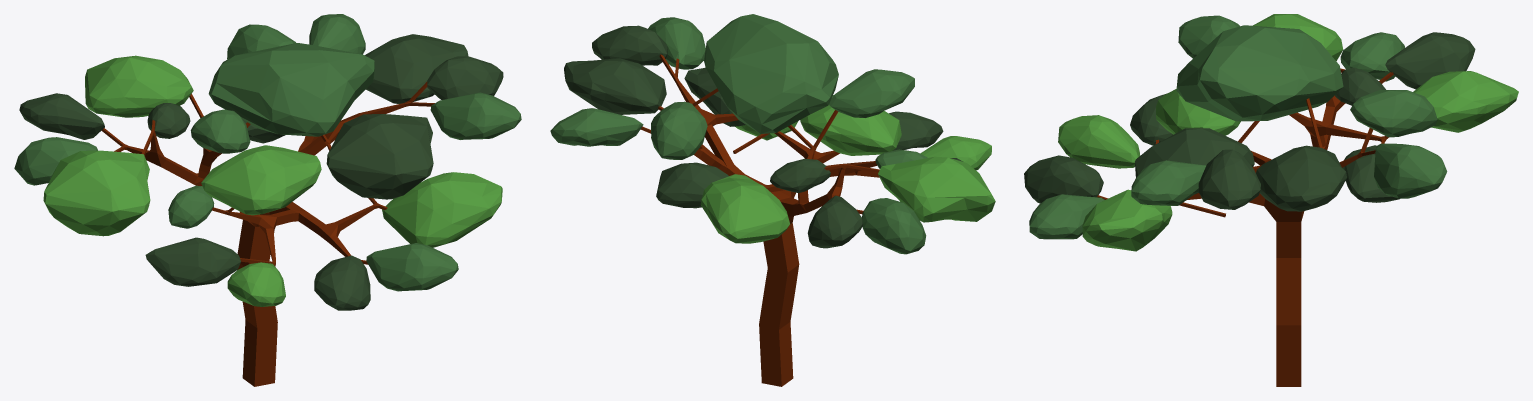
Rendered from LowPolyOak1.fbx.
3 renders of one model, left to right at view 1: azimuth 30°, elevation 25°; view 2: azimuth 150°, elevation 25°; view 3: azimuth 270°, elevation 25°, orthographic. The views are drawn at different scales.
Visible parts, largest first — view 1: Icosphere.020, Cube, Icosphere.010, Icosphere.011, Icosphere.006, Icosphere.017, Icosphere.007, Icosphere.009, Icosphere, Icosphere.001, Icosphere.002, Icosphere.004 (+9 smaller); view 2: Icosphere.020, Cube, Icosphere.010, Icosphere.009, Icosphere.007, Icosphere.017, Icosphere.005, Icosphere.014, Icosphere.003, Icosphere.013, Icosphere.012, Icosphere.008 (+7 smaller); view 3: Icosphere.020, Cube, Icosphere.009, Icosphere.007, Icosphere.006, Icosphere.016, Icosphere.003, Icosphere.004, Icosphere.013, Icosphere.012, Icosphere.011, Icosphere.015 (+9 smaller).
Boxes of the visible parts, x1,y1,x2,y2 form: Icosphere.020: [208, 43, 374, 136]; Cube: [101, 81, 434, 386]; Icosphere.010: [43, 150, 150, 236]; Icosphere.011: [326, 114, 433, 199]; Icosphere.006: [382, 172, 502, 247]; Icosphere.017: [201, 145, 321, 215]; Icosphere.007: [85, 55, 193, 117]; Icosphere.009: [365, 34, 468, 103]; Icosphere: [145, 237, 240, 286]; Icosphere.001: [366, 243, 458, 291]; Icosphere.002: [430, 92, 521, 139]; Icosphere.004: [19, 93, 104, 139]; Icosphere.020: [704, 14, 838, 133]; Cube: [640, 54, 879, 386]; Icosphere.010: [878, 156, 995, 222]; Icosphere.009: [564, 58, 666, 114]; Icosphere.007: [700, 174, 789, 243]; Icosphere.017: [800, 105, 901, 155]; Icosphere.005: [829, 69, 914, 117]; Icosphere.014: [862, 198, 926, 254]; Icosphere.003: [550, 108, 643, 146]; Icosphere.013: [651, 101, 707, 159]; Icosphere.012: [592, 25, 667, 65]; Icosphere.008: [656, 162, 728, 208]; Icosphere.020: [1176, 25, 1343, 121]; Cube: [1097, 68, 1393, 386]; Icosphere.009: [1256, 145, 1346, 211]; Icosphere.007: [1413, 71, 1518, 132]; Icosphere.006: [1082, 189, 1172, 251]; Icosphere.016: [1058, 115, 1140, 168]; Icosphere.003: [1374, 143, 1447, 198]; Icosphere.004: [1385, 32, 1475, 89]; Icosphere.013: [1350, 90, 1437, 137]; Icosphere.012: [1198, 149, 1260, 209]; Icosphere.011: [1135, 128, 1254, 194]; Icosphere.015: [1024, 155, 1103, 203].
Bounding box in the file's own units: 11.26 × 10.57 × 8.38.
